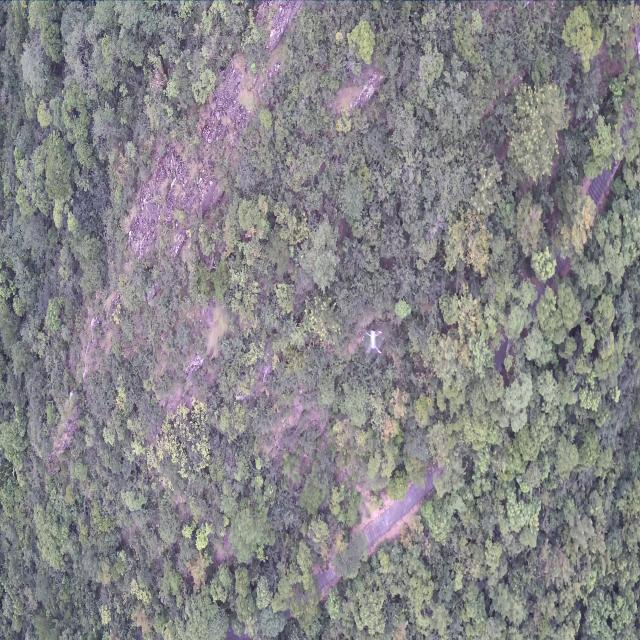UAV: (364, 330, 383, 354)
